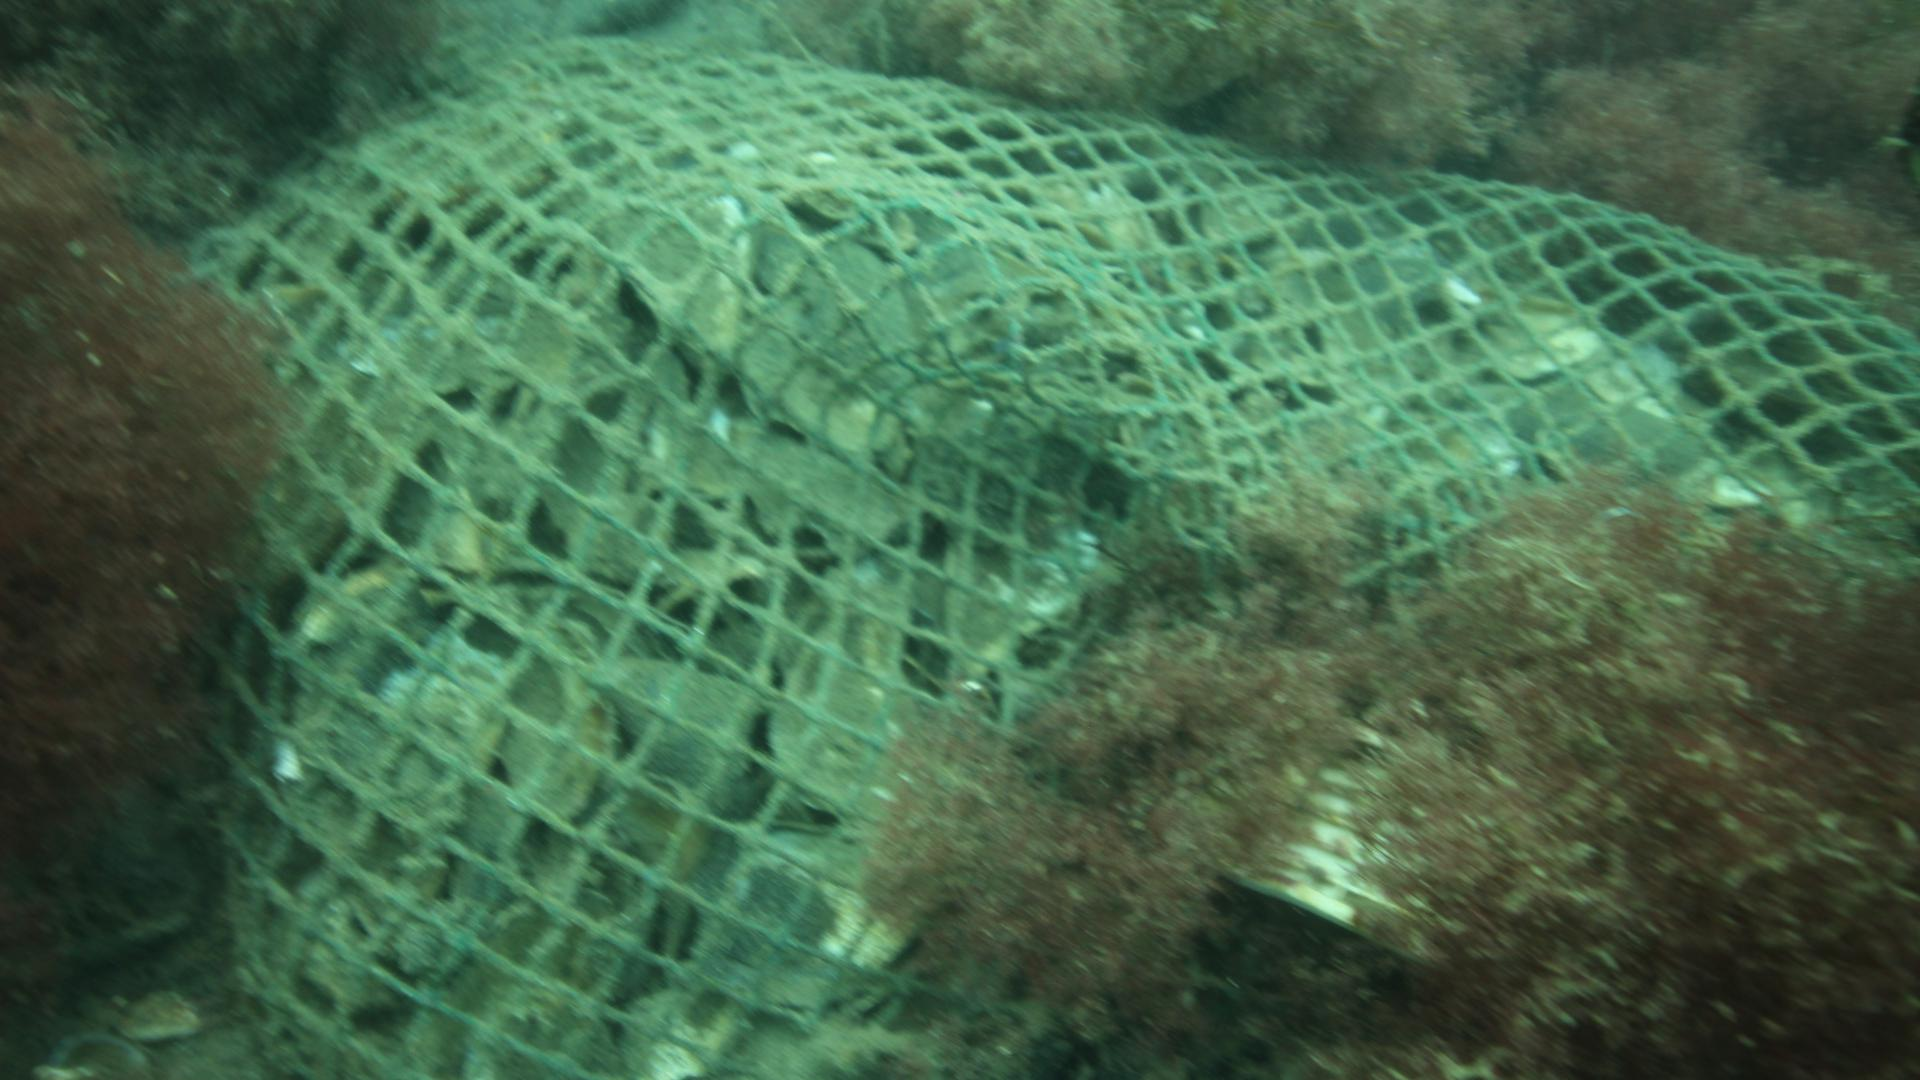fish net: (182, 36, 1920, 1080)
